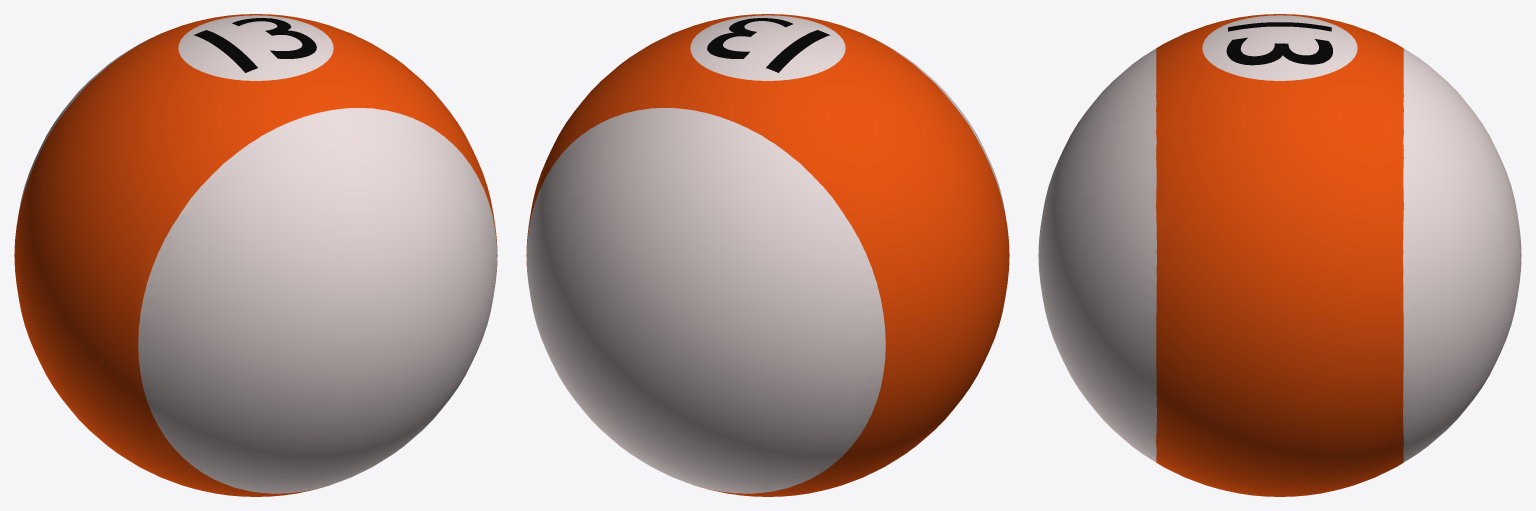
Rendered from thirteenBall.glb.
3 views of the same model, side by side, from view 1: azimuth 30°, elevation 25°; view 2: azimuth 150°, elevation 25°; view 3: azimuth 270°, elevation 25° (orthographic).
Parts seen in each view (by area): view 1: Sphere; view 2: Sphere; view 3: Sphere.
Part boxes in pixels (box(x1,y1,x2,y2)): Sphere: box(14, 14, 497, 496); Sphere: box(526, 14, 1009, 496); Sphere: box(1038, 14, 1521, 496).
Size of the model in its own units: 0.127 by 0.127 by 0.127.
